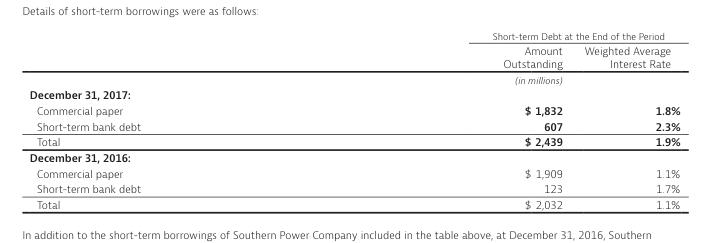table: (28, 29, 679, 211)
table column: (28, 29, 315, 211), (315, 29, 572, 211), (572, 29, 679, 211)
table column header: (28, 29, 679, 86)
table projected row header: (28, 86, 679, 102), (28, 149, 679, 165)
table row: (28, 42, 679, 86), (28, 86, 679, 102), (28, 102, 679, 118), (28, 118, 679, 134), (28, 149, 679, 165), (28, 165, 679, 181), (28, 134, 679, 149), (28, 181, 679, 196), (28, 196, 679, 211), (28, 29, 679, 42)
table spanning cell: (315, 29, 679, 42)
